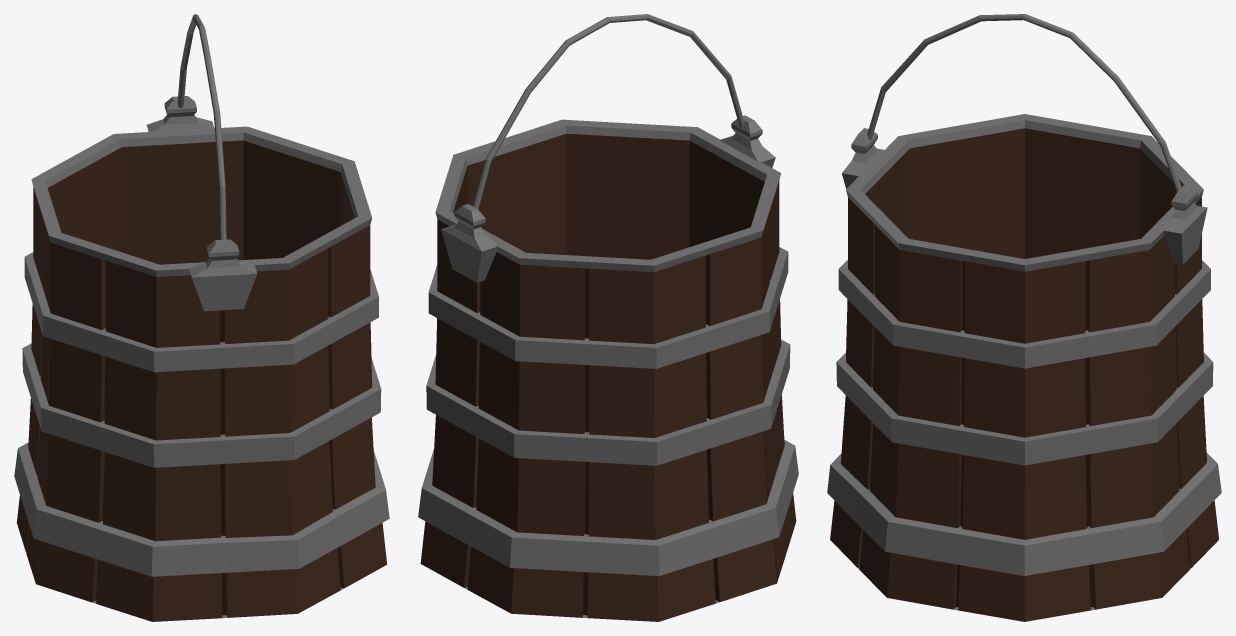
Rendered from Bucket.fbx.
3 views of the same model, side by side, from view 1: azimuth 30°, elevation 25°; view 2: azimuth 150°, elevation 25°; view 3: azimuth 270°, elevation 25° (orthographic).
Visible parts, largest first — view 1: Cylinder.004; view 2: Cylinder.004; view 3: Cylinder.004.
Part boxes in pixels (x1,y1,x2,y2): Cylinder.004: [14, 14, 389, 621]; Cylinder.004: [418, 14, 798, 621]; Cylinder.004: [827, 14, 1221, 621].
Size of the model in its own units: 183 by 270 by 183.
